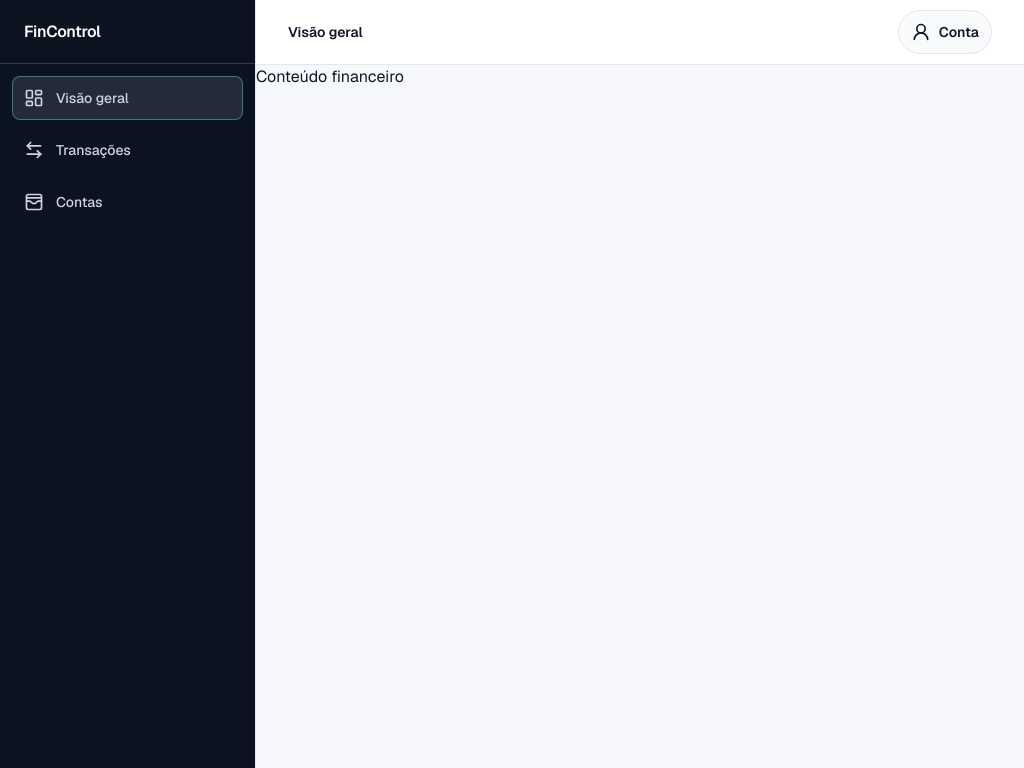
Test: PrivateAppShell › closes with Escape and restores focus and document scroll
Step 1. Click the button with aria-label "Abrir painel da conta" → (945, 32), box [898, 10, 992, 54]
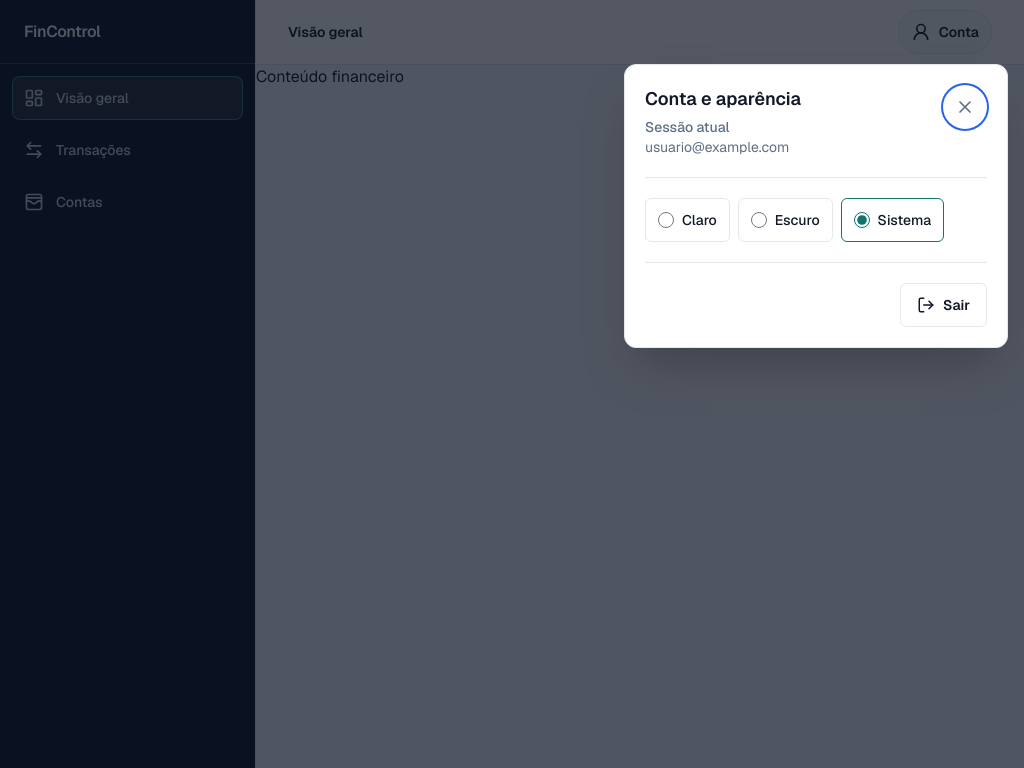
Step 2. Press Escape
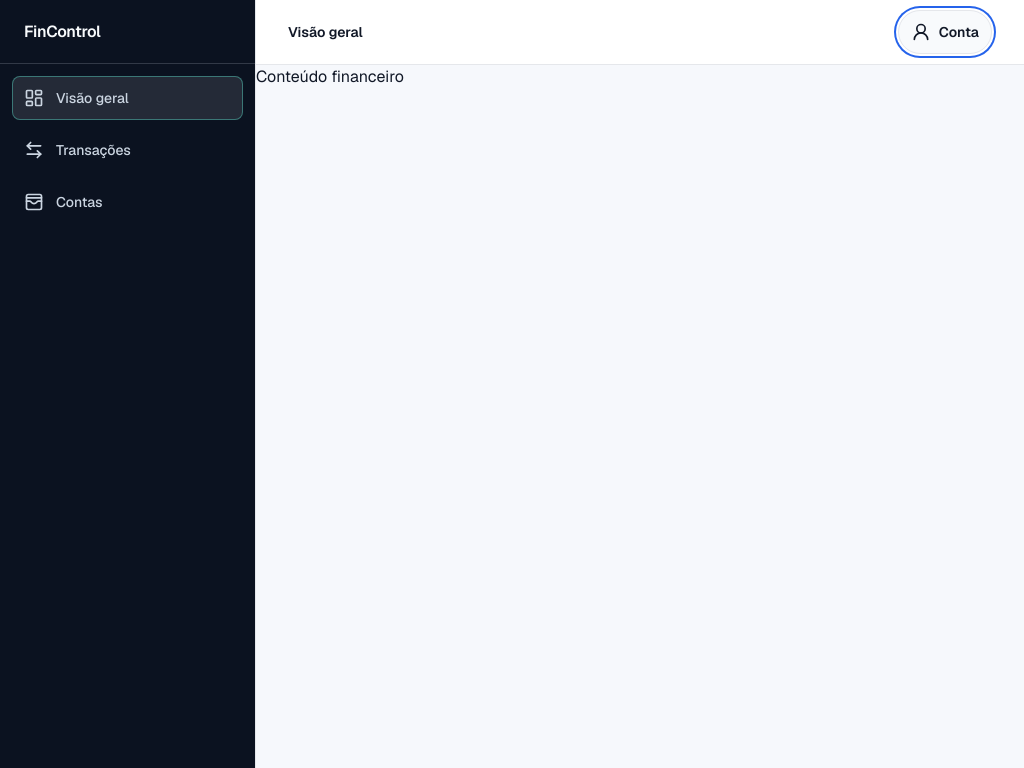
expect the dialog is gone: met
expect the button with aria-label "Abrir painel da conta" is collapsed: met, box [898, 10, 992, 54]
